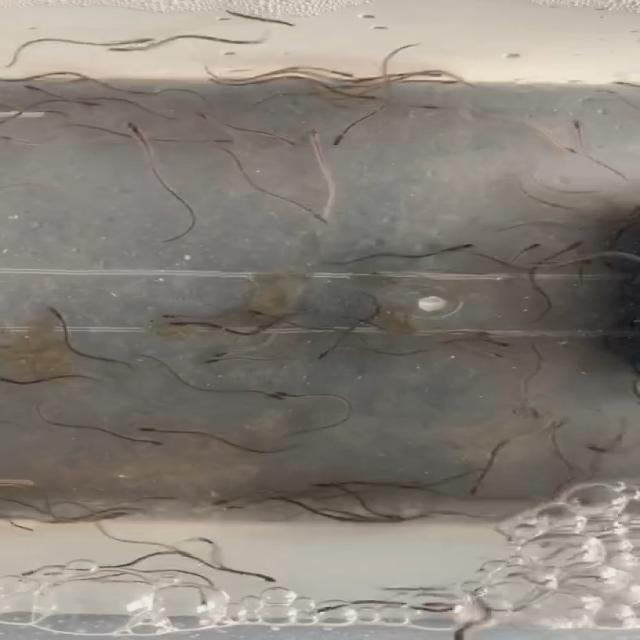active_glass_eel: (52, 98, 97, 120), (326, 84, 370, 106), (226, 564, 280, 580), (194, 491, 242, 508), (24, 309, 82, 323), (284, 389, 322, 409), (200, 358, 240, 375), (464, 346, 500, 364), (166, 544, 202, 562), (118, 121, 148, 142), (334, 120, 362, 142), (372, 515, 412, 530), (469, 476, 494, 500), (299, 121, 327, 142), (169, 322, 197, 343), (148, 308, 194, 320), (516, 238, 548, 255), (290, 200, 320, 218), (391, 94, 416, 115), (564, 123, 590, 143), (322, 474, 348, 494), (108, 81, 138, 98), (492, 332, 514, 354), (113, 39, 145, 54), (140, 441, 166, 458), (64, 509, 88, 527), (27, 84, 59, 97), (566, 138, 582, 163), (190, 133, 220, 146), (312, 339, 346, 350), (182, 105, 212, 117), (202, 345, 234, 355), (262, 389, 280, 405), (366, 323, 391, 334), (150, 425, 168, 439), (314, 64, 338, 74)
